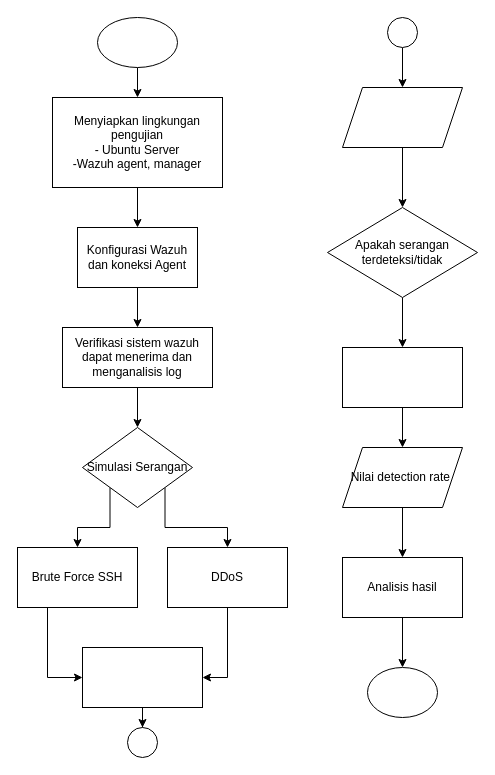
This 495x775 diagram has some shape labels left out. The centre of each missing label's shape, as x and y in pixels:
Klasifikasi hasil True positive/ False Negative: (402,377)
Log aktivitas server dan alert wazuh: (402,117)
Menjalankan serangan sesuai skenario: (142,677)
Selesai: (402,692)
Start: (137,42)
